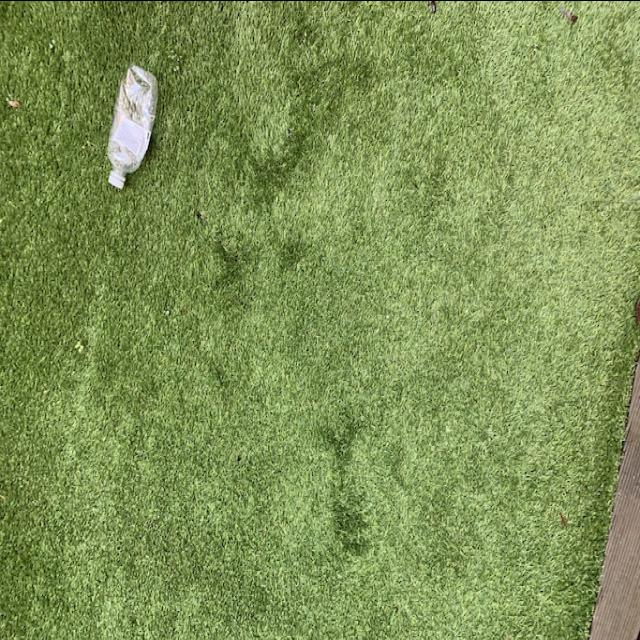litter: (104, 65, 160, 190)
